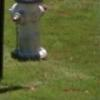a fire hydrant: (9, 0, 48, 60)
